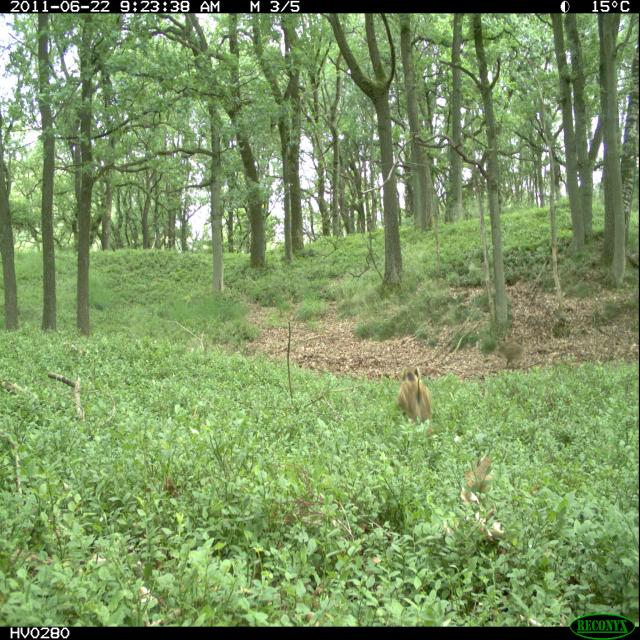boar: (378, 345, 440, 444)
